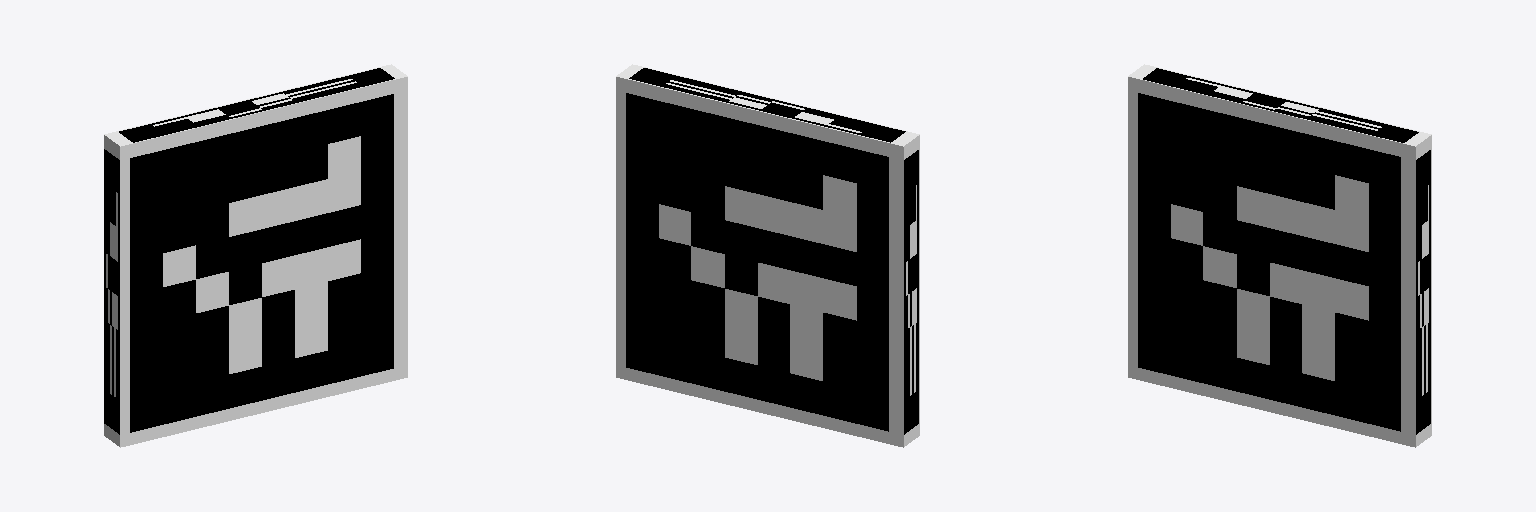
3 renders of one model, left to right at view 1: azimuth 30°, elevation 25°; view 2: azimuth 150°, elevation 25°; view 3: azimuth 330°, elevation 25°, orthographic.
Parts seen in each view (by area): view 1: Cube; view 2: Cube; view 3: Cube.
Part boxes in pixels (x1,y1,x2,y2): Cube: (104,64,407,447); Cube: (616,64,919,447); Cube: (1128,64,1431,447).
Bounding box in the file's own units: 2 × 2 × 0.2.
1 materials, 1 textured.